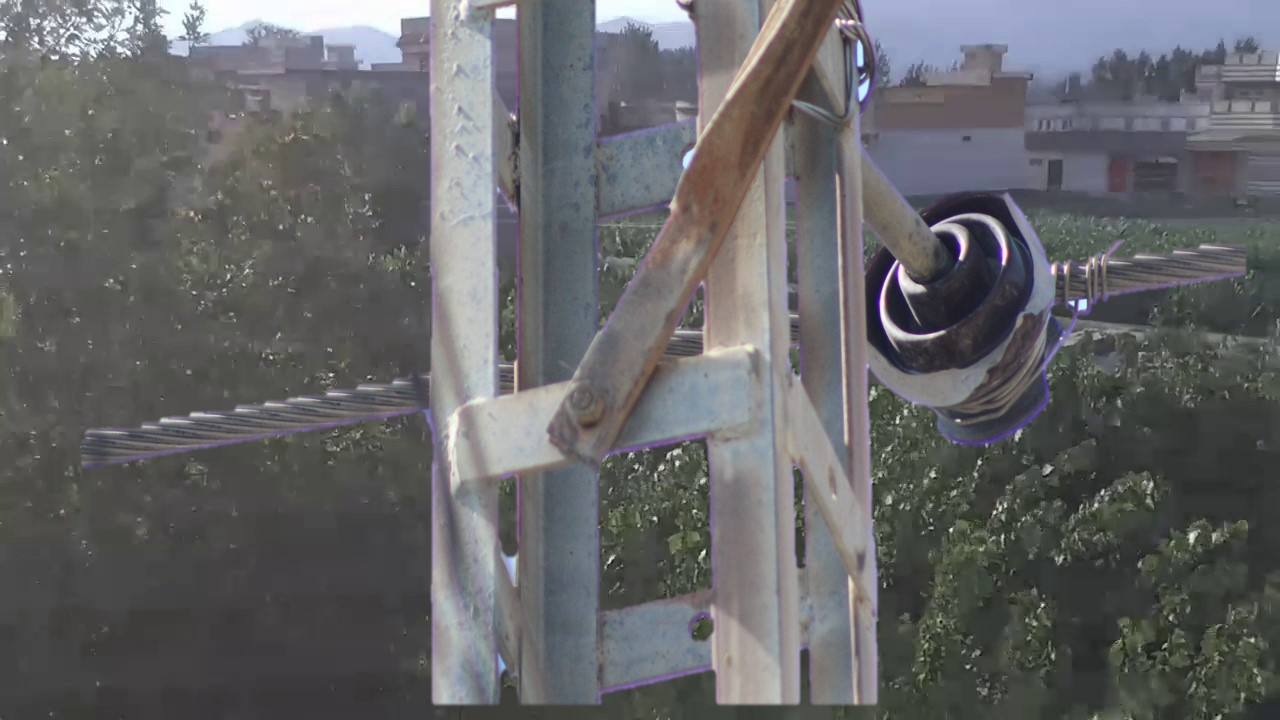defect_pin: (857, 182, 1072, 457)
